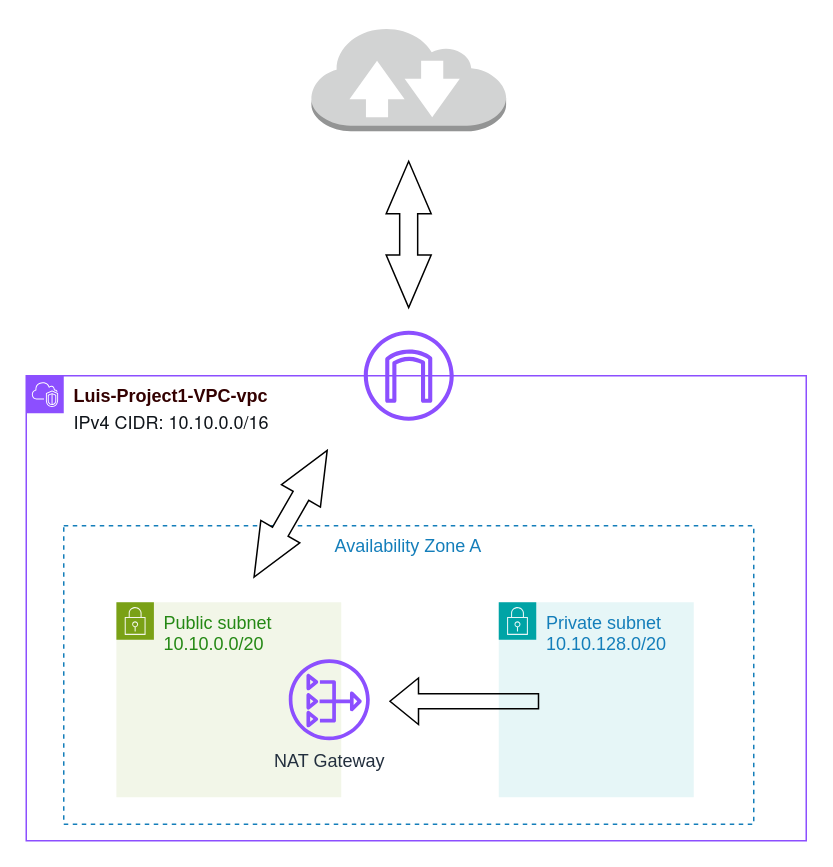
Some shapes in this 833 by 867 pixel diagram are drawn without their labels. Here are the shapes that lost their labels. From the top down, the centre of each, then its label:
At pixel 408 78: "Internet".
At pixel 408 375: "Internet Gateway".
